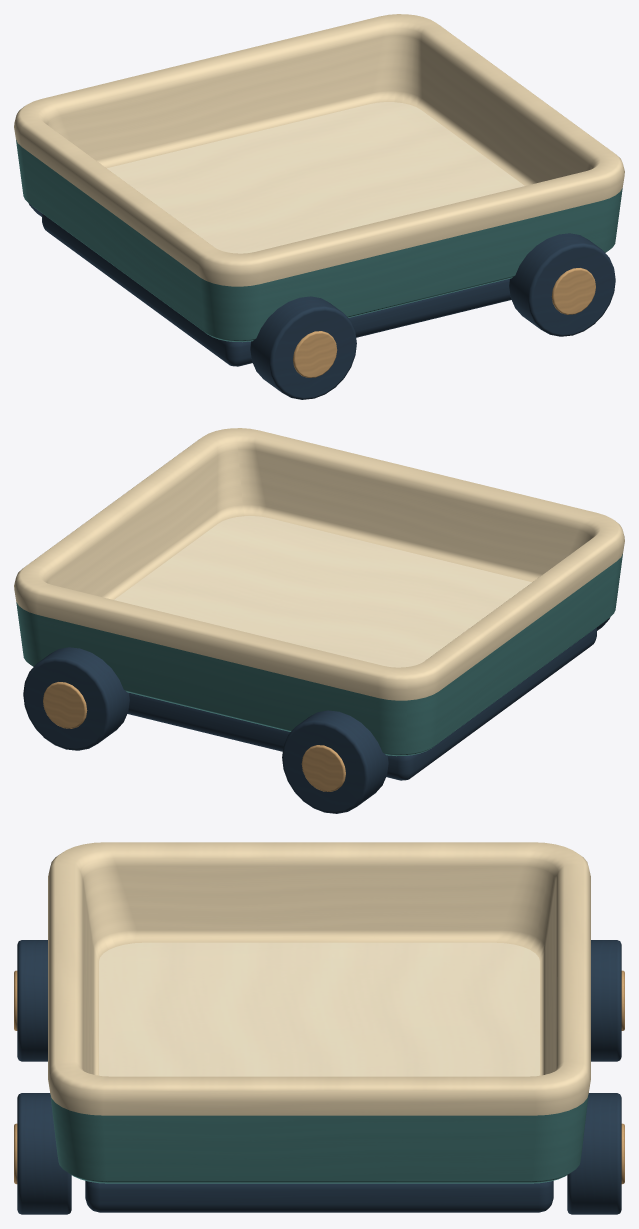
Rendered from original-open-carriage.glb.
3 renders of one model, top to bottom at view 1: azimuth 30°, elevation 25°; view 2: azimuth 150°, elevation 25°; view 3: azimuth 270°, elevation 25°, orthographic. The views are drawn at different scales.
Parts seen in each view (by area): view 1: OpenShell, Undercarriage; view 2: OpenShell, Undercarriage; view 3: OpenShell, Undercarriage.
Boxes of the visible parts, x1=… form: OpenShell: x1=14, y1=14, x2=624, y2=342; Undercarriage: x1=28, y1=203, x2=615, y2=399; OpenShell: x1=14, y1=428, x2=624, y2=756; Undercarriage: x1=23, y1=617, x2=610, y2=813; OpenShell: x1=48, y1=842, x2=590, y2=1183; Undercarriage: x1=14, y1=940, x2=624, y2=1214.
Bounding box in the file's own units: 0.52 × 0.165 × 0.54.
1 material, 1 textured.
